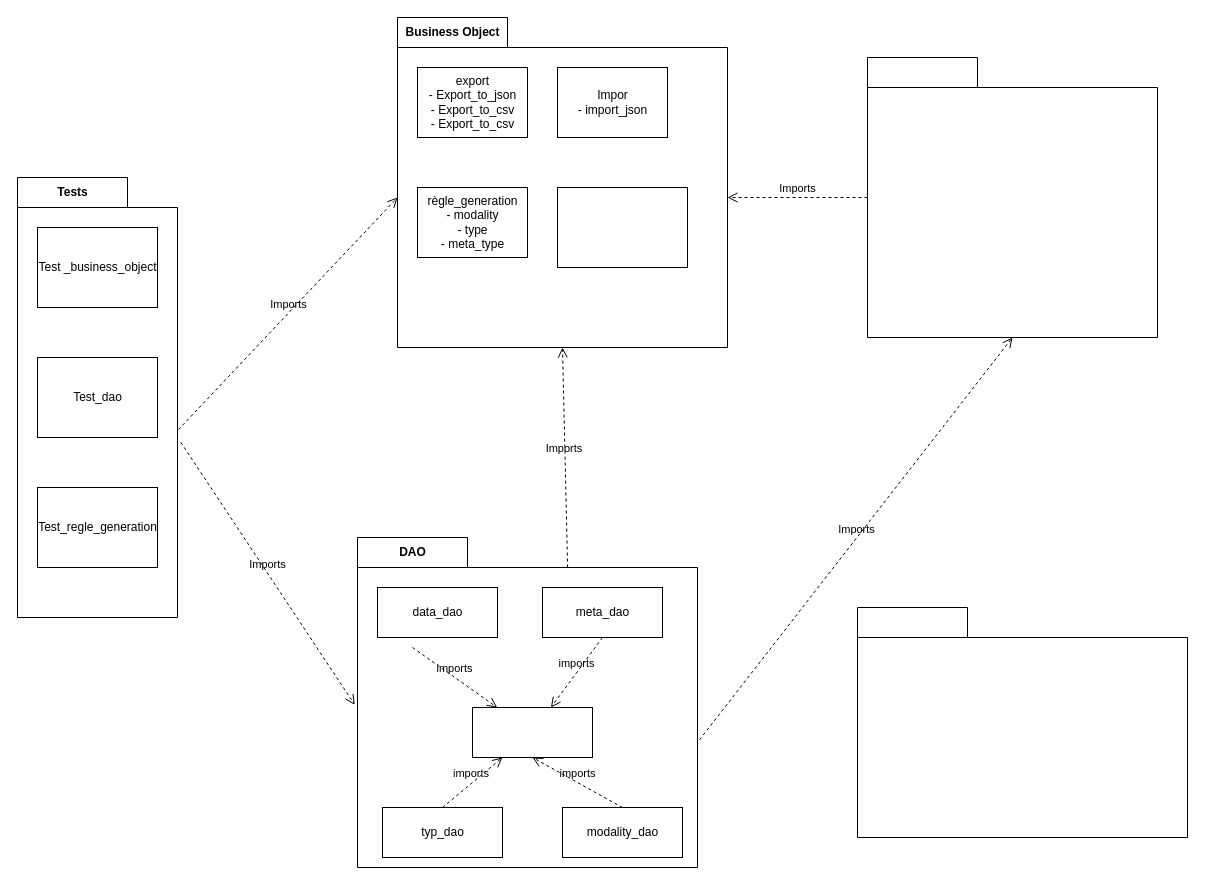
This 1205x885 diagram has some shape labels left out. Here are the shapes that lost their labels. From the top down, the centre of each, then its label:
At (1012,197): "Factory".
At (622,227): "<<generation_donnee>> generation_donnee".
At (532,732): "db_connection".
At (1022,722): "Utils".
